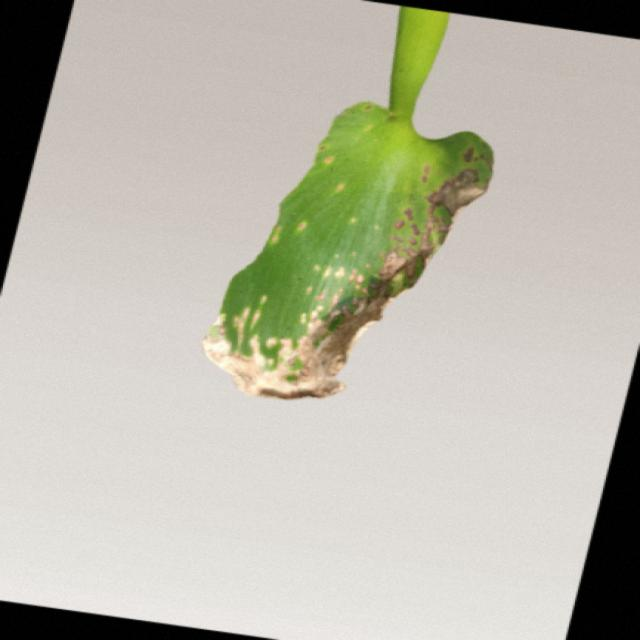daun berpenyakit bercak: (202, 8, 492, 398)
